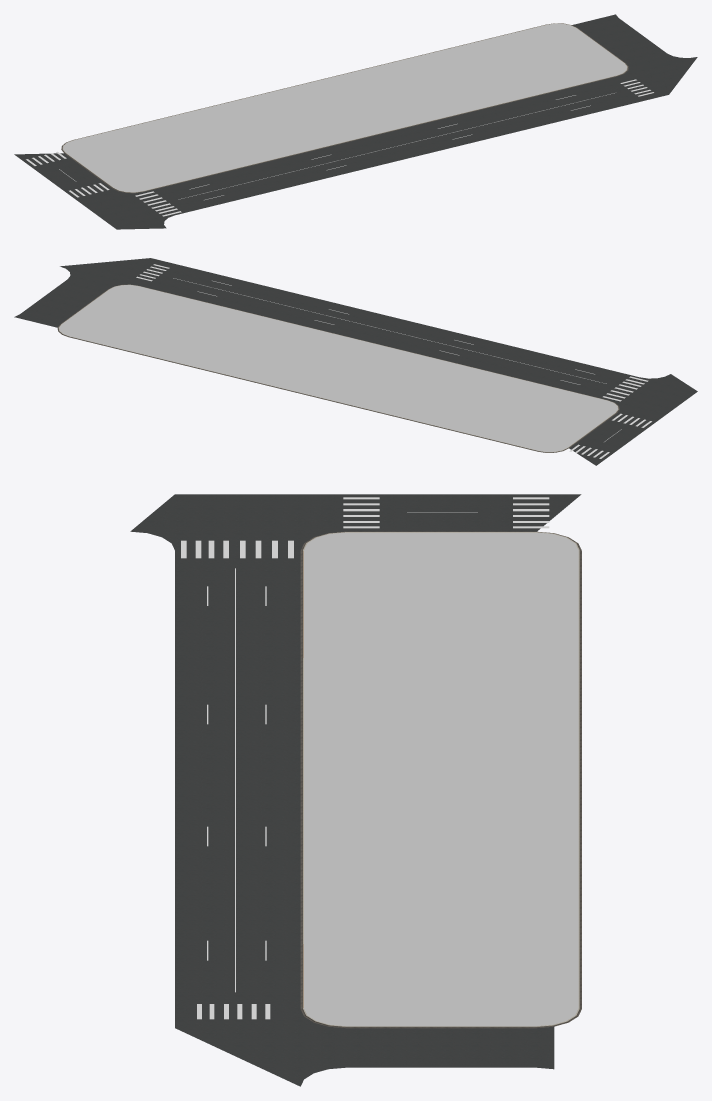
File: Terrain_Area_09.fbx
3 views of the same model, one above another, from view 1: azimuth 30°, elevation 25°; view 2: azimuth 150°, elevation 25°; view 3: azimuth 270°, elevation 25° (orthographic). The views are drawn at different scales.
Visible parts, largest first — view 1: Area_09, Road_05, Road_06, Road_Alpha_18; view 2: Area_09, Road_05, Road_06, Road_Alpha_18; view 3: Area_09, Road_05, Road_06, Road_Alpha_18, Road_Alpha_12.
Boxes of the visible parts, <box> form: Area_09: <box>61,23,628,193</box>; Road_05: <box>14,76,668,229</box>; Road_06: <box>572,14,697,94</box>; Road_Alpha_18: <box>135,79,653,216</box>; Area_09: <box>57,284,619,452</box>; Road_05: <box>139,258,697,465</box>; Road_06: <box>14,258,150,327</box>; Road_Alpha_18: <box>136,264,648,401</box>; Area_09: <box>300,531,581,1028</box>; Road_05: <box>130,494,581,1027</box>; Road_06: <box>175,1009,554,1086</box>; Road_Alpha_18: <box>181,540,293,1019</box>; Road_Alpha_12: <box>343,497,549,528</box>.
Size of the model in its own units: 15717 by 7.15 by 5065.
